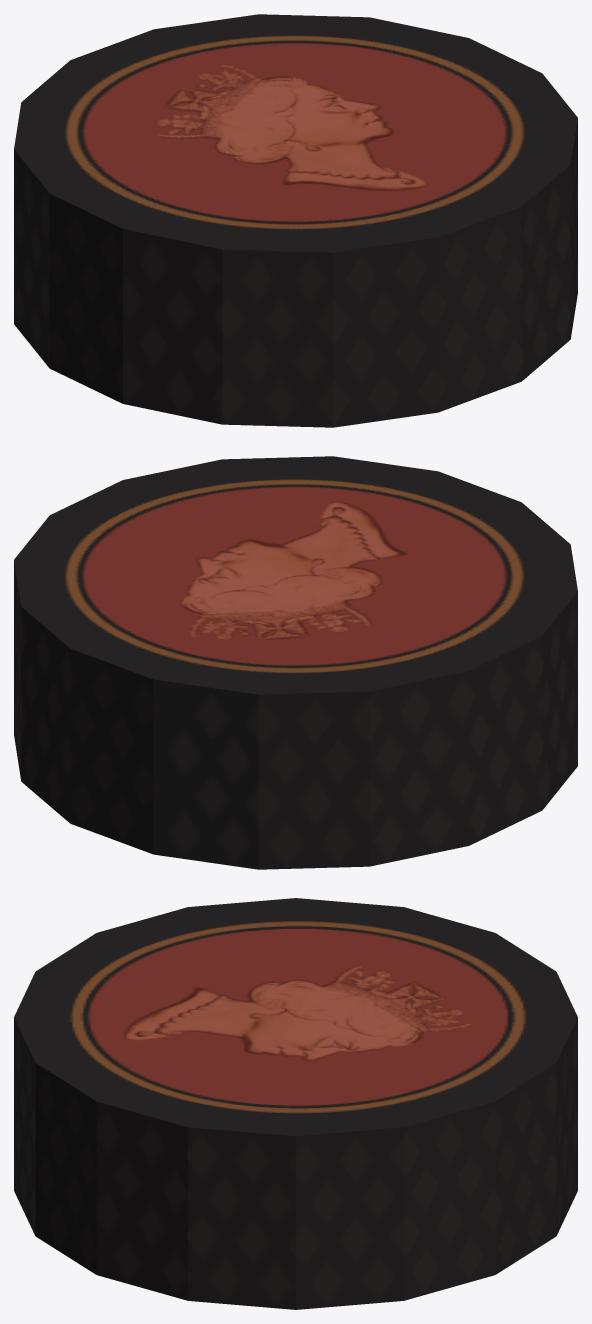
File: puck.glb
The picture shows the model from 3 angles, top to bottom: view 1: azimuth 30°, elevation 25°; view 2: azimuth 150°, elevation 25°; view 3: azimuth 270°, elevation 25°; orthographic projection.
Parts seen in each view (by area): view 1: ROOT_UU3D; view 2: ROOT_UU3D; view 3: ROOT_UU3D.
Part boxes in pixels (x1,y1,x2,y2): ROOT_UU3D: (14,14,577,427); ROOT_UU3D: (14,456,577,869); ROOT_UU3D: (14,898,577,1309).
Size of the model in its own units: 0.1761 by 0.0598 by 0.1761.
1 material, 1 textured.
